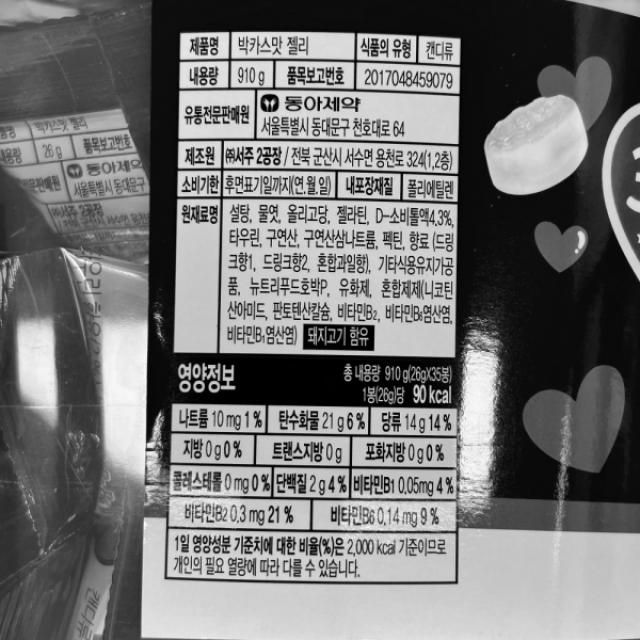Nutrition Label: (166, 359, 469, 603)
